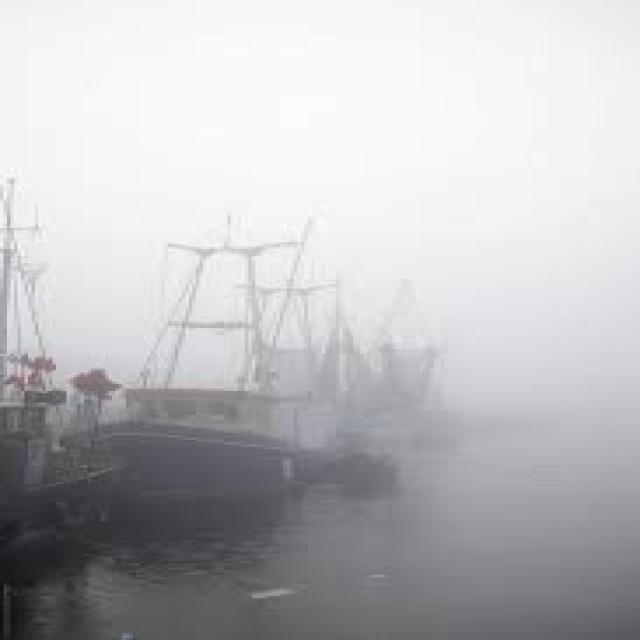fishing boat: (46, 199, 494, 499)
